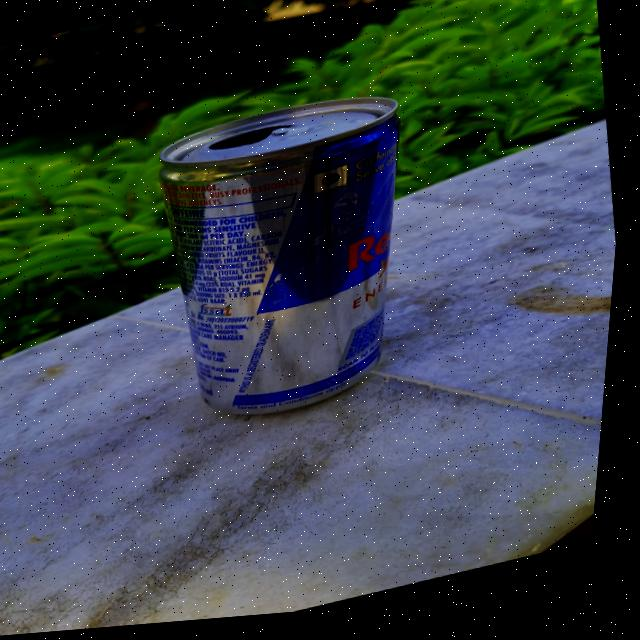Redbull DanceYourStyle: (134, 96, 430, 443)
